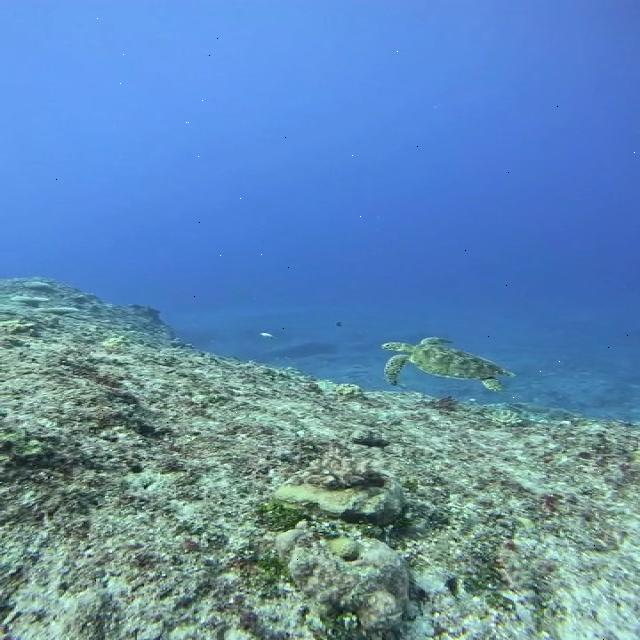turtle: (382, 337, 516, 392)
